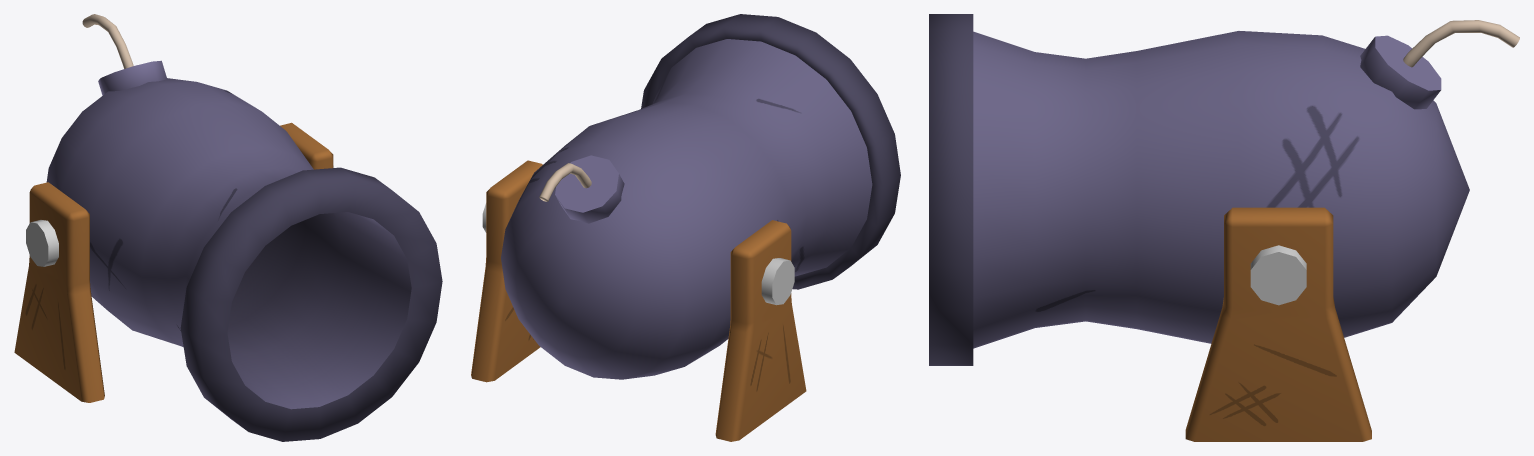
File: Cannon.fbx
The picture shows the model from 3 angles, left to right: view 1: azimuth 30°, elevation 25°; view 2: azimuth 150°, elevation 25°; view 3: azimuth 270°, elevation 25°; orthographic projection. The views are drawn at different scales.
Parts seen in each view (by area): view 1: Cannon1, Cannon2; view 2: Cannon1, Cannon2; view 3: Cannon1, Cannon2.
Part boxes in pixels (left/top/right/bottom): Cannon1: left=26, top=14, right=442, bottom=441; Cannon2: left=14, top=122, right=333, bottom=402; Cannon1: left=482, top=14, right=900, bottom=379; Cannon2: left=471, top=160, right=806, bottom=441; Cannon1: left=929, top=14, right=1519, bottom=365; Cannon2: left=1185, top=207, right=1371, bottom=441.
Bounding box in the file's own units: 9.85 × 8.79 × 13.88.
2 materials, 2 textured.
